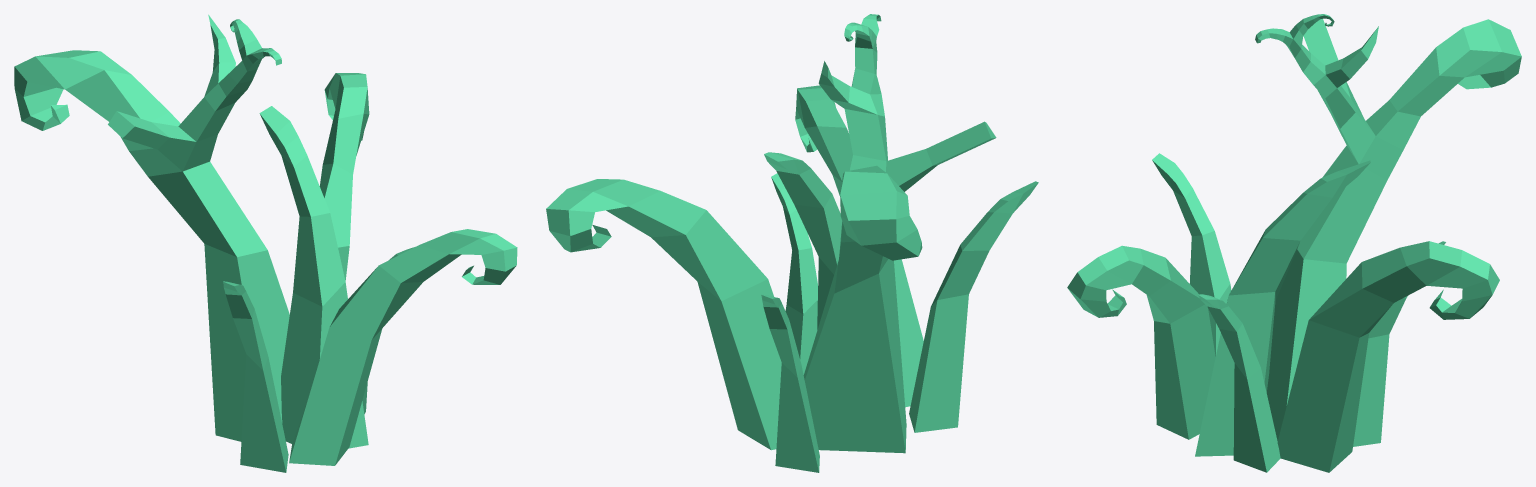
Rendered from Grass_1.glb.
3 renders of one model, left to right at view 1: azimuth 30°, elevation 25°; view 2: azimuth 150°, elevation 25°; view 3: azimuth 270°, elevation 25°, orthographic. The views are drawn at different scales.
Visible parts, largest first — view 1: Grass_1; view 2: Grass_1; view 3: Grass_1.
Part boxes in pixels (left/top/right/bottom): Grass_1: left=14, top=14, right=517, bottom=472; Grass_1: left=546, top=14, right=1038, bottom=472; Grass_1: left=1067, top=14, right=1521, bottom=472.
Size of the model in its own units: 0.282 by 0.3137 by 0.3169.
1 material, 1 textured.
